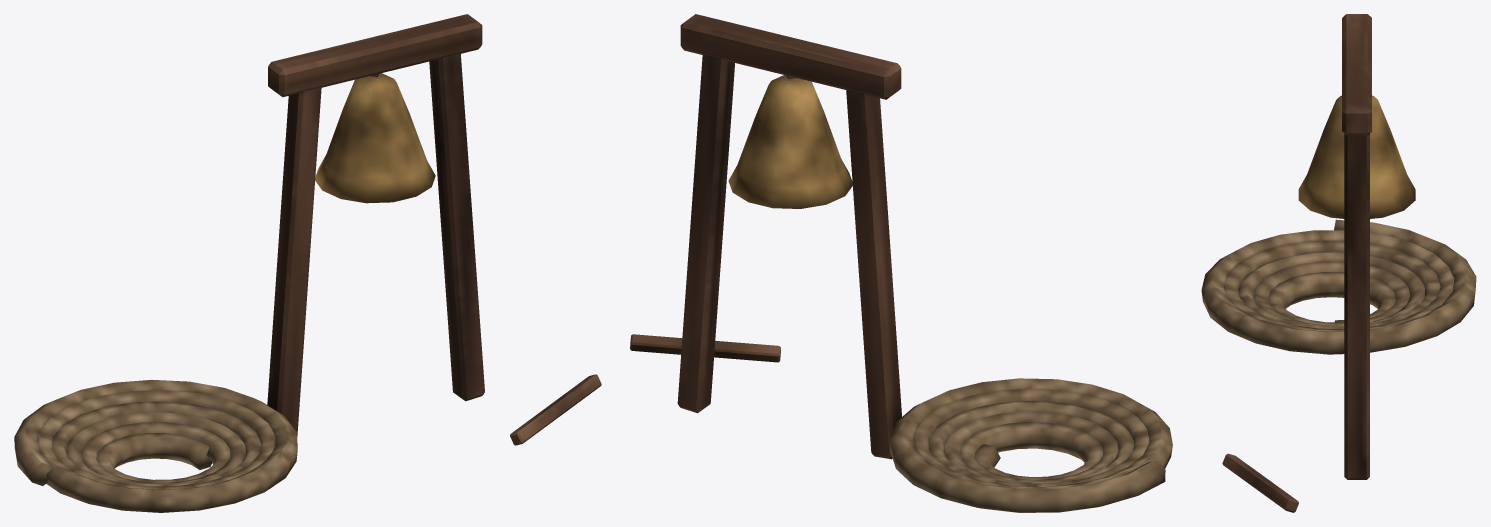
Rendered from StiltVillage_Prop_B.fbx.
The picture shows the model from 3 angles, left to right: view 1: azimuth 30°, elevation 25°; view 2: azimuth 150°, elevation 25°; view 3: azimuth 270°, elevation 25°; orthographic projection. The views are drawn at different scales.
Parts seen in each view (by area): view 1: StiltVillage_Prop_B; view 2: StiltVillage_Prop_B; view 3: StiltVillage_Prop_B.
Boxes of the visible parts, x1,y1,x2,y2 form: StiltVillage_Prop_B: (14, 14, 601, 512); StiltVillage_Prop_B: (630, 14, 1172, 512); StiltVillage_Prop_B: (1201, 14, 1476, 512).
Bounding box in the file's own units: 1.45 × 0.9566 × 0.6424.
